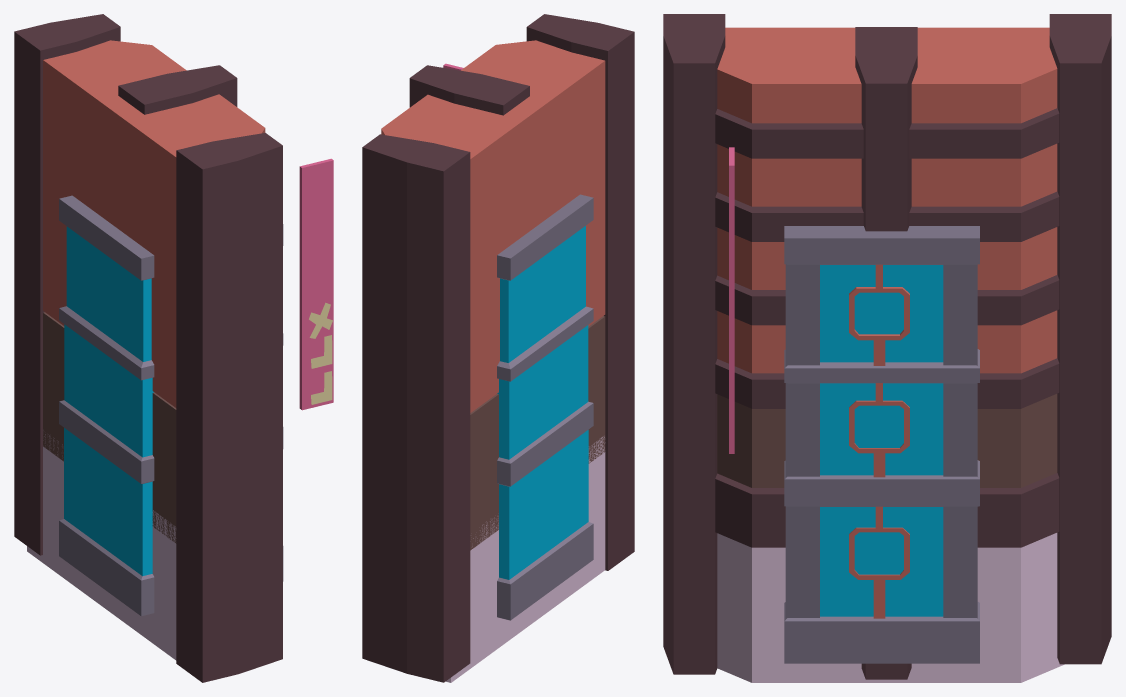
The model's file is housr5.fbx.
3 views of the same model, side by side, from view 1: azimuth 30°, elevation 25°; view 2: azimuth 150°, elevation 25°; view 3: azimuth 270°, elevation 25° (orthographic). The views are drawn at different scales.
Visible parts, largest first — view 1: pCube83; view 2: pCube83; view 3: pCube83.
Part boxes in pixels (x1=…): pCube83: x1=14, y1=14, x2=333, y2=682; pCube83: x1=362, y1=14, x2=634, y2=682; pCube83: x1=663, y1=14, x2=1111, y2=682.
Size of the model in its own units: 0.1714 by 0.4967 by 0.3303.
